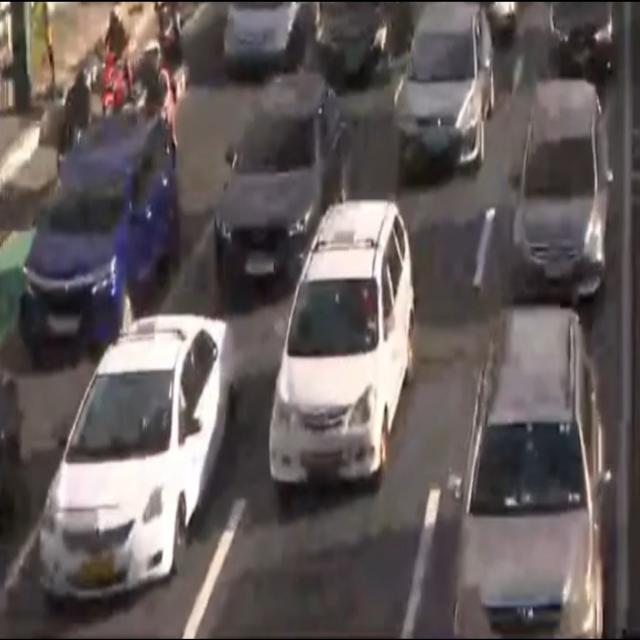Motorcycle: (135, 34, 182, 159), (100, 3, 132, 126)
SUV: (449, 311, 602, 640), (268, 203, 415, 490), (21, 110, 178, 358)
Sedan: (36, 314, 235, 597), (211, 68, 353, 293), (503, 70, 612, 320), (398, 6, 490, 172)
